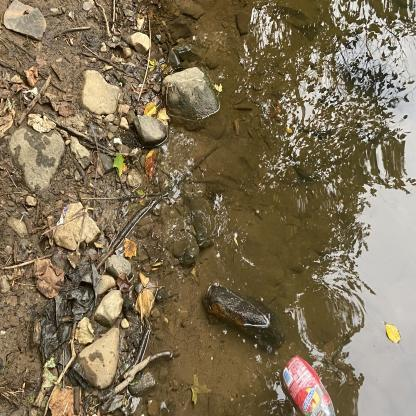trash: (274, 351, 341, 416)
